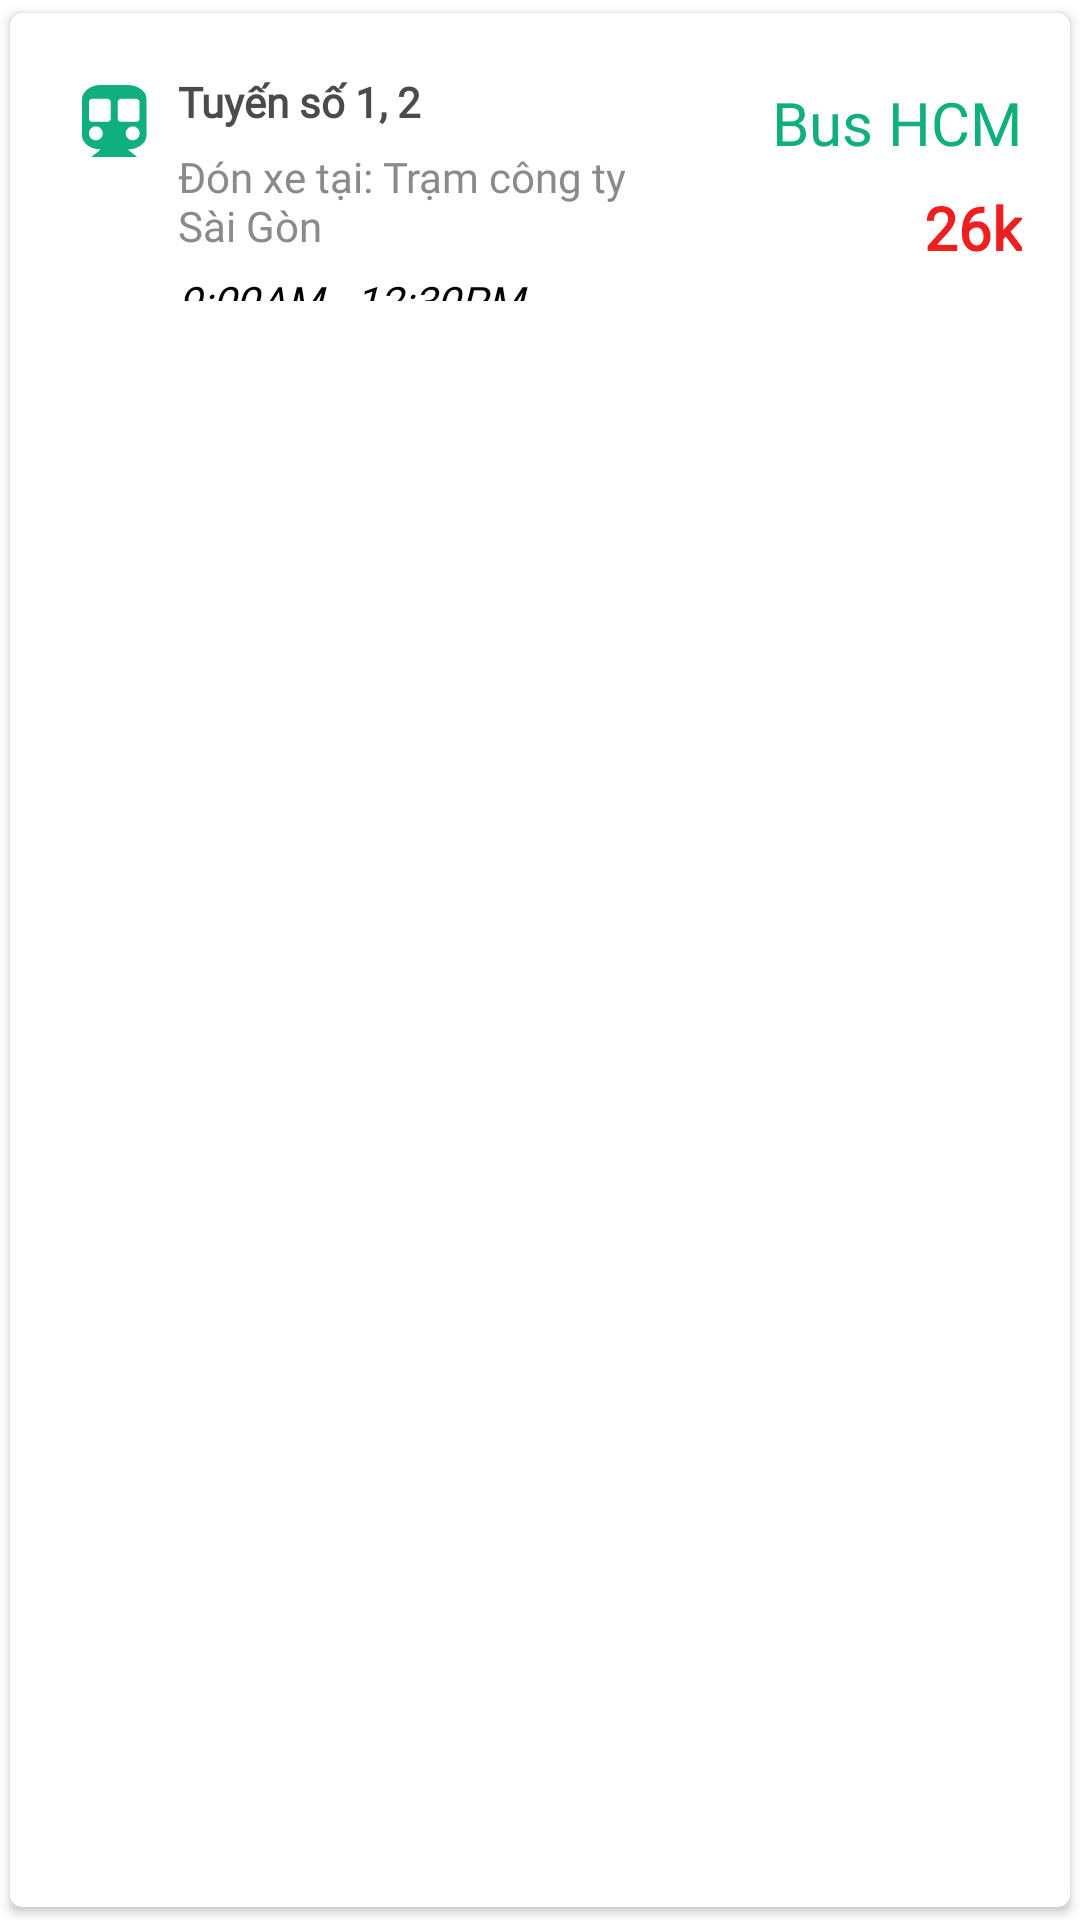

Where icons sit on this 1080x1920 app screen, as region(x1, y1, x2, y2):
bus: region(82, 85, 147, 157)
